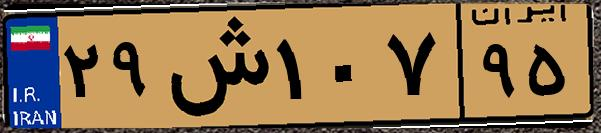0: (330, 28, 385, 110)
1: (270, 28, 330, 110)
2: (57, 26, 110, 100)
5: (525, 38, 570, 115)
7: (385, 28, 445, 110)
9: (475, 38, 525, 113), (110, 28, 158, 98)
ش: (158, 12, 270, 120)
